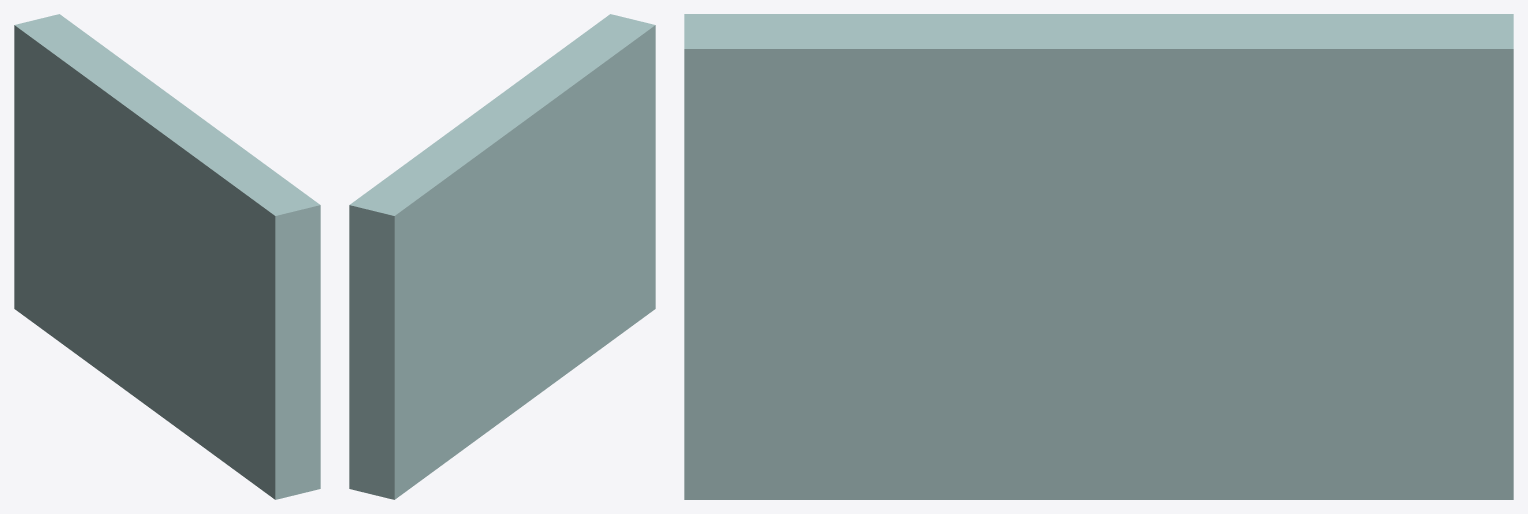
File: Window00-Glass.gltf
The picture shows the model from 3 angles, left to right: view 1: azimuth 30°, elevation 25°; view 2: azimuth 150°, elevation 25°; view 3: azimuth 270°, elevation 25°; orthographic projection. The views are drawn at different scales.
Size of the model in its own units: 1 by 6 by 10.
